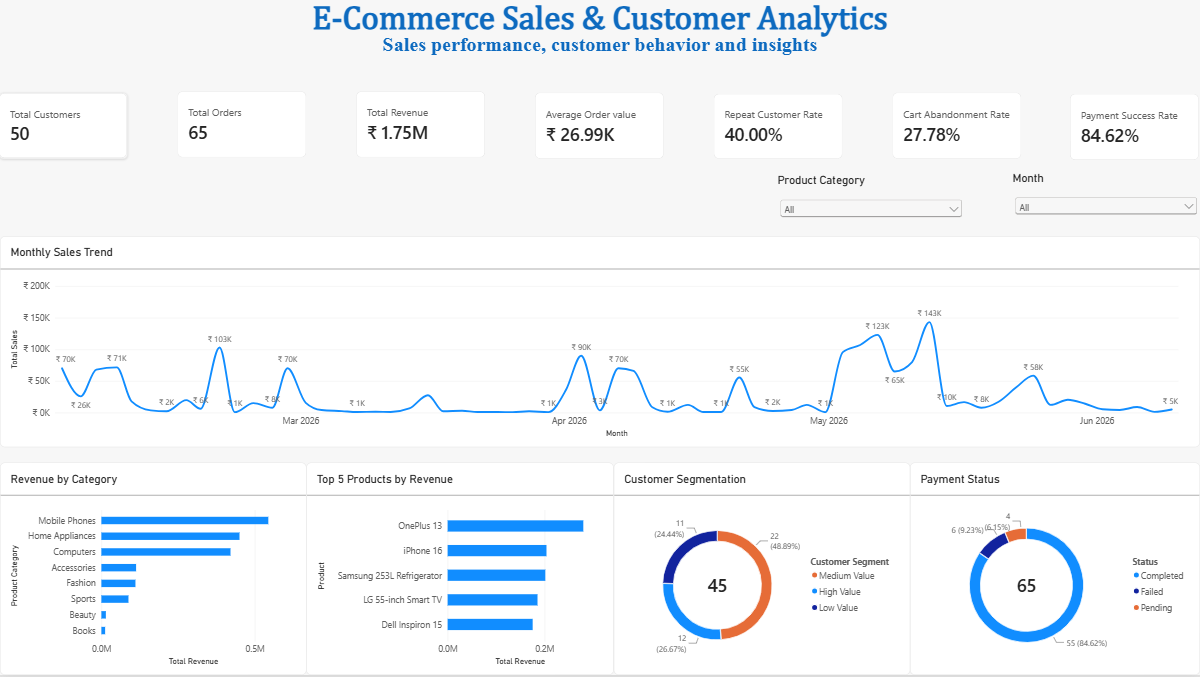

What the dashboard file says about the page in this screenshot:
{"tool":"powerbi","page":{"name":"Page 1","canvas":[1920,1080],"ordinal":0},"visuals":[{"type":"textbox","box":[142,52,1636,54],"z":0},{"type":"textbox","box":[304,0,1312,72],"z":1000},{"type":"lineChart","title":"Monthly Sales Trend","fields":{"Category":["public order_details.created_at"],"Y":["Sum(public order_details.total)"]},"box":[0,378.5,1920,337.5],"z":2000},{"type":"cardVisual","title":"Average Order values","fields":{"Data":["Avg(public order_details.total)"]},"box":[856,148.4,206,106],"z":3000},{"type":"cardVisual","fields":{"Data":["Sum(public order_details.total)"]},"box":[570.3,146.4,206,106],"z":4000},{"type":"cardVisual","fields":{"Data":["Count(public order_details.id)"]},"box":[284.7,146.4,206,106],"z":5000},{"type":"cardVisual","fields":{"Data":["Count(public user.id)"]},"box":[-1,148.4,206,106],"z":6000},{"type":"clusteredBarChart","title":"Revenue by Category","fields":{"Category":["public product_category.name"],"Y":["public product_category.Total Revenue"]},"box":[0,740,490,340],"z":7000},{"type":"clusteredBarChart","title":"Top 5 Products by Revenue","fields":{"Category":["public product.name"],"Y":["public product_category.Total Revenue"]},"box":[490,740,492,340],"z":8000},{"type":"donutChart","title":"Customer Segmentation","fields":{"Category":["Customer Spending.Customer Segment"],"Y":["Count(Customer Spending.user_id)"]},"box":[982,740,474,340],"z":9000},{"type":"donutChart","title":"Payment Status","fields":{"Category":["public payment_details.status"],"Y":["CountNonNull(public payment_details.id)"]},"box":[1456,740,464,340],"z":10000},{"type":"cardVisual","fields":{"Data":["public order_details.Repeat Customer Rate"]},"box":[1141.7,150.4,206,104],"z":11000},{"type":"cardVisual","fields":{"Data":["public shopping_session.Cart Abandonment Rate"]},"box":[1427.3,148.4,206,106],"z":12000},{"type":"cardVisual","fields":{"Data":["public payment_details.Payment Success Rate"]},"box":[1713,149.6,206,106],"z":13000},{"type":"slicer","title":"Month","fields":{"Values":["public order_details.Month Year"]},"box":[1620,274,300,76],"z":14000},{"type":"slicer","title":"Product Category","fields":{"Values":["public product_category.name"]},"box":[1244,278.4,300,76],"z":15000}]}

Visuals, with their boxes in screenshot pixels (x1, y1, x2, y2), scaled from the page's 1920x1080 canvas onto the 1200x677 screenshot:
textbox: crop(89, 33, 1111, 66)
textbox: crop(190, 0, 1010, 45)
"Monthly Sales Trend" lineChart: crop(0, 237, 1199, 449)
"Average Order values" cardVisual: crop(535, 93, 664, 159)
cardVisual - Sum(public order_details.total): crop(356, 92, 485, 158)
cardVisual - Count(public order_details.id): crop(178, 92, 307, 158)
cardVisual - Count(public user.id): crop(0, 93, 128, 159)
"Revenue by Category" clusteredBarChart: crop(0, 464, 306, 676)
"Top 5 Products by Revenue" clusteredBarChart: crop(306, 464, 614, 676)
"Customer Segmentation" donutChart: crop(614, 464, 910, 676)
"Payment Status" donutChart: crop(910, 464, 1199, 676)
cardVisual - public order_details.Repeat Customer Rate: crop(714, 94, 842, 159)
cardVisual - public shopping_session.Cart Abandonment Rate: crop(892, 93, 1021, 159)
cardVisual - public payment_details.Payment Success Rate: crop(1071, 94, 1199, 160)
"Month" slicer: crop(1012, 172, 1199, 219)
"Product Category" slicer: crop(778, 175, 965, 222)
